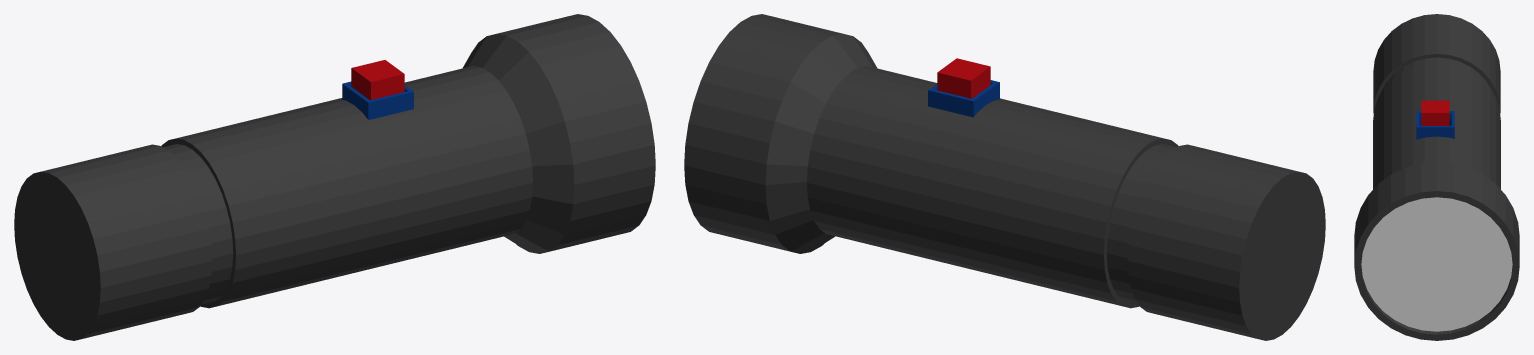
File: lantern.fbx
The picture shows the model from 3 angles, left to right: view 1: azimuth 30°, elevation 25°; view 2: azimuth 150°, elevation 25°; view 3: azimuth 270°, elevation 25°; orthographic projection. The views are drawn at different scales.
Visible parts, largest first — view 1: lantern; view 2: lantern; view 3: lantern.
Part boxes in pixels (x1,y1,x2,y2): lantern: [14, 14, 655, 340]; lantern: [684, 14, 1325, 340]; lantern: [1354, 14, 1519, 340].
Bounding box in the file's own units: 724 × 268 × 261.
